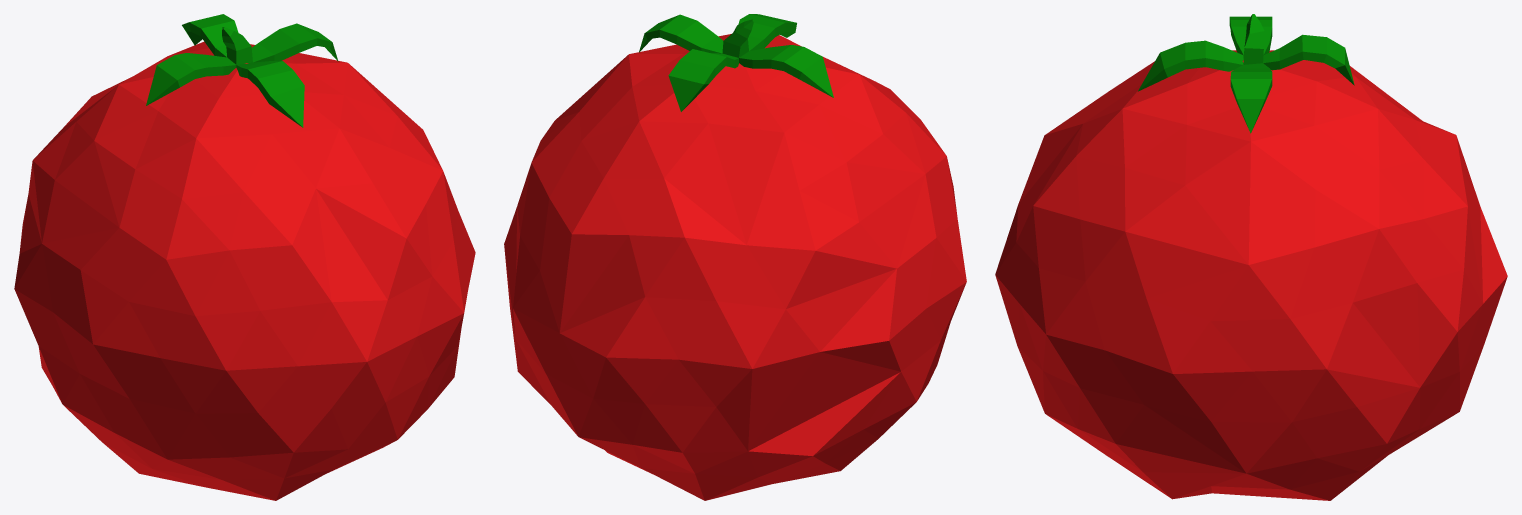
File: tomato.glb
3 views of the same model, side by side, from view 1: azimuth 30°, elevation 25°; view 2: azimuth 150°, elevation 25°; view 3: azimuth 270°, elevation 25° (orthographic). The views are drawn at different scales.
Visible parts, largest first — view 1: Tomato; view 2: Tomato; view 3: Tomato.
Part boxes in pixels (x1,y1,x2,y2): Tomato: (14, 14, 475, 500); Tomato: (504, 14, 966, 500); Tomato: (995, 14, 1507, 500).
Bounding box in the file's own units: 0.2391 × 0.2714 × 0.2701.
